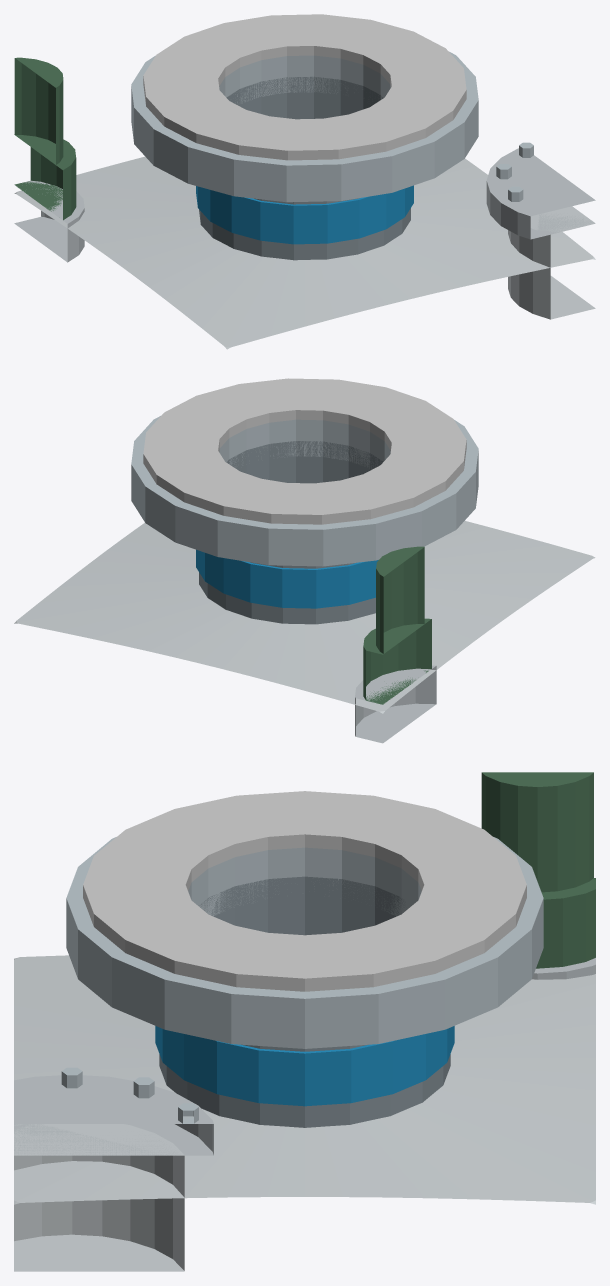
The model's file is cell_31.obj.
3 views of the same model, one above another, from view 1: azimuth 30°, elevation 25°; view 2: azimuth 150°, elevation 25°; view 3: azimuth 270°, elevation 25° (orthographic). The views are drawn at different scales.
Size of the model in its own units: 1 by 0.5 by 1.
